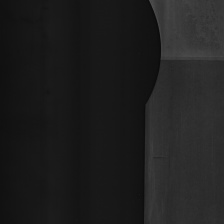crescent_gap: (129, 0, 168, 111), (155, 50, 224, 70)
